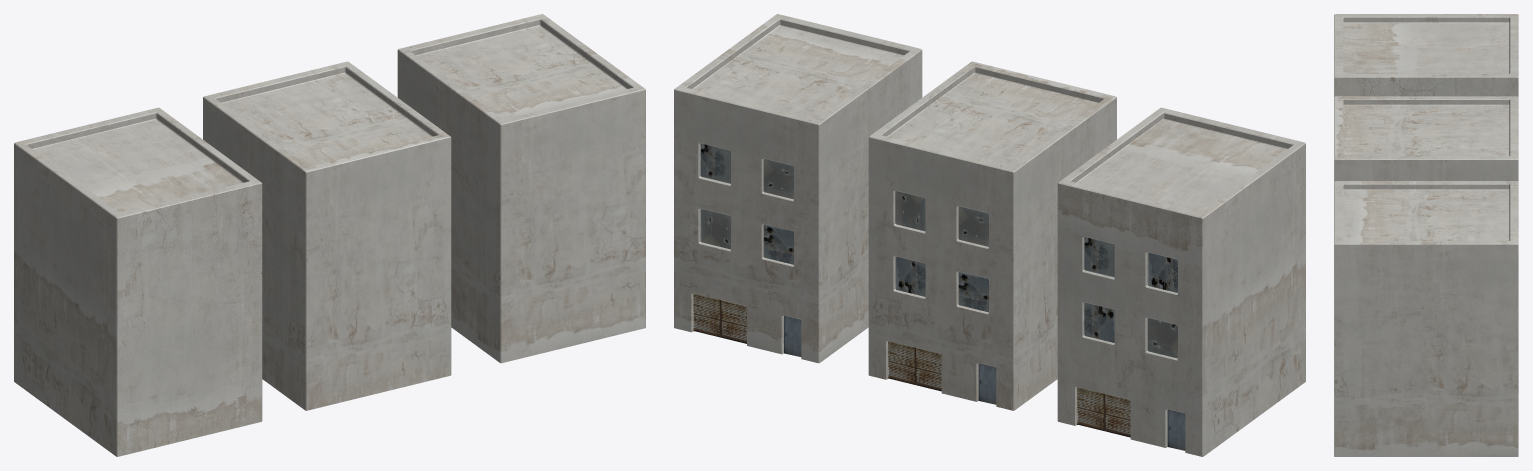
File: edificios_abandonados.glb
The picture shows the model from 3 angles, left to right: view 1: azimuth 30°, elevation 25°; view 2: azimuth 150°, elevation 25°; view 3: azimuth 270°, elevation 25°; orthographic projection. The views are drawn at different scales.
Parts seen in each view (by area): view 1: Material-material (×3); view 2: Material-material (×3), Material_004-material (×3), Material_002-material (×3), Material_001-material (×3), Material_003-material (×3); view 3: Material-material (×3).
Part boxes in pixels (x1=…): Material-material (×3): x1=14, y1=14, x2=645, y2=456; Material-material (×3): x1=674, y1=14, x2=1305, y2=456; Material_004-material (×3): x1=700, y1=143, x2=1177, y2=342; Material_002-material (×3): x1=693, y1=293, x2=1130, y2=437; Material_001-material (×3): x1=700, y1=159, x2=1177, y2=358; Material_003-material (×3): x1=784, y1=315, x2=1185, y2=450; Material-material (×3): x1=1334, y1=14, x2=1518, y2=456.
Bounding box in the file's own units: 12.1 × 5.22 × 4.09.
5 materials, 5 textured.
